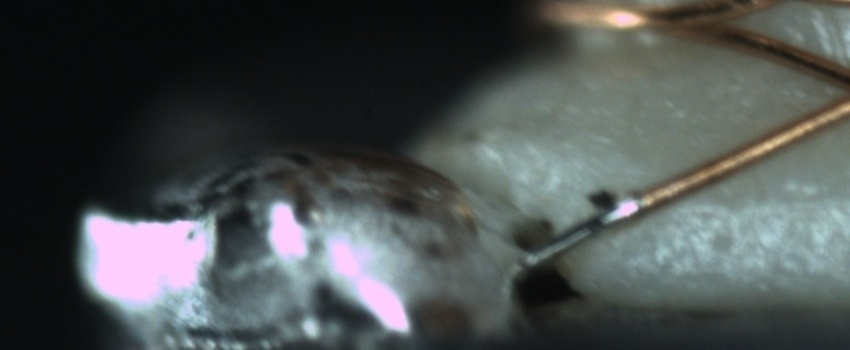CL: (831, 63, 850, 117)
DL: (687, 166, 849, 231)
TS: (524, 196, 648, 267)
TTCW: (521, 175, 683, 267)
